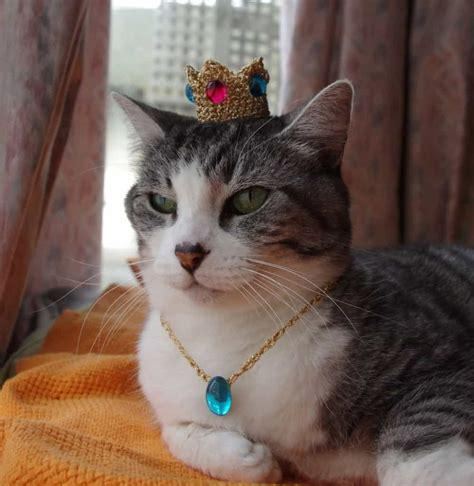cat: (111, 80, 472, 486)
